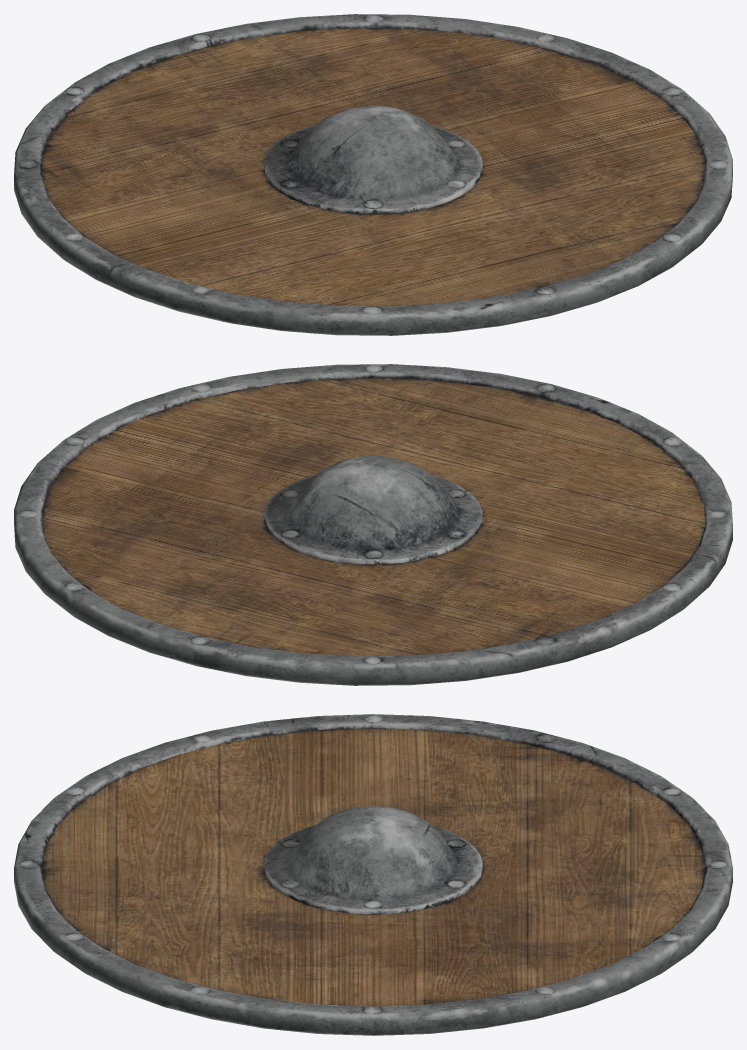
File: viking-shield.glb
The picture shows the model from 3 angles, top to bottom: view 1: azimuth 30°, elevation 25°; view 2: azimuth 150°, elevation 25°; view 3: azimuth 270°, elevation 25°; orthographic projection.
Parts seen in each view (by area): view 1: PIECE_viking-shield; view 2: PIECE_viking-shield; view 3: PIECE_viking-shield.
Part boxes in pixels (x1,y1,x2,y2): PIECE_viking-shield: (14, 14, 732, 335); PIECE_viking-shield: (14, 364, 732, 685); PIECE_viking-shield: (14, 714, 732, 1035).
Size of the model in its own units: 1 by 0.1476 by 1.
1 material, 1 textured.
